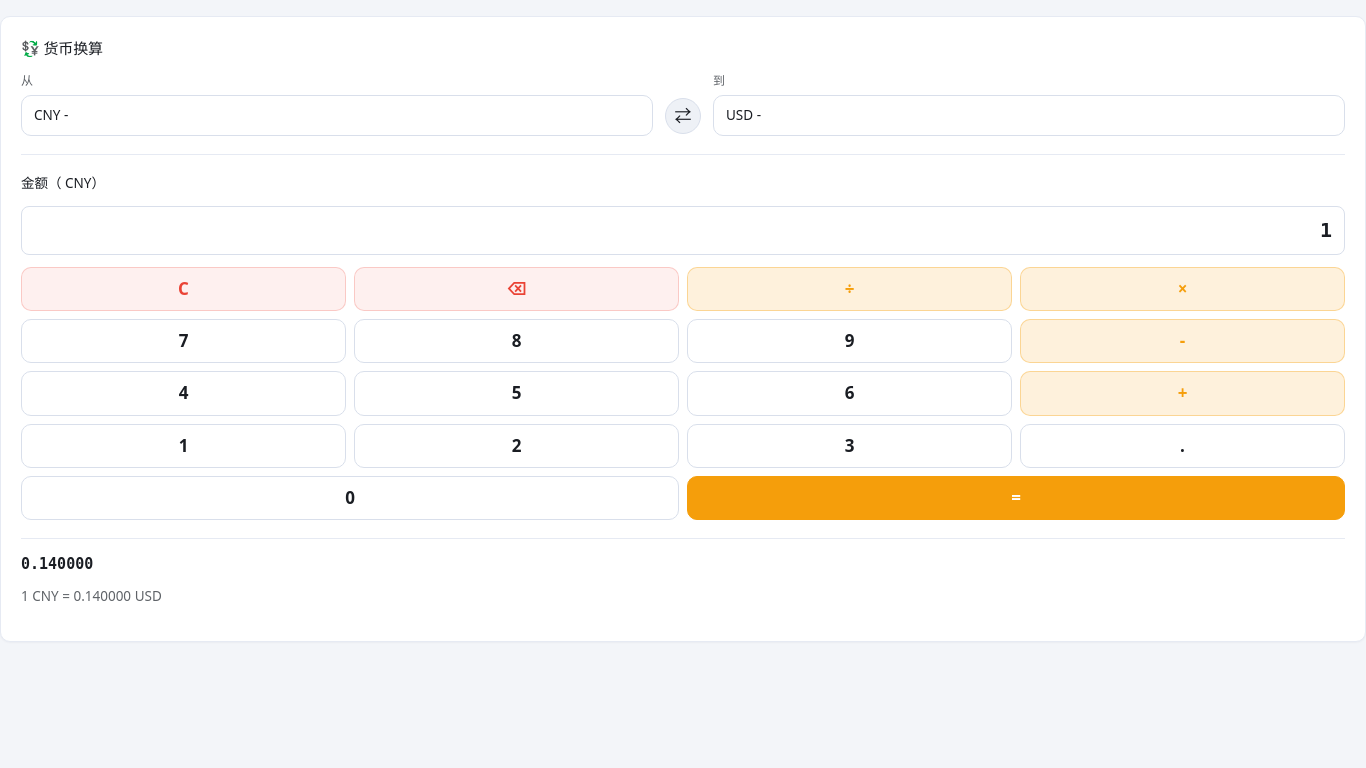
ExchangeConverter › 应保持简单键盘，仅支持加减乘除
Click the button "C": [184, 289] box x1=21 y1=267 x2=346 y2=311
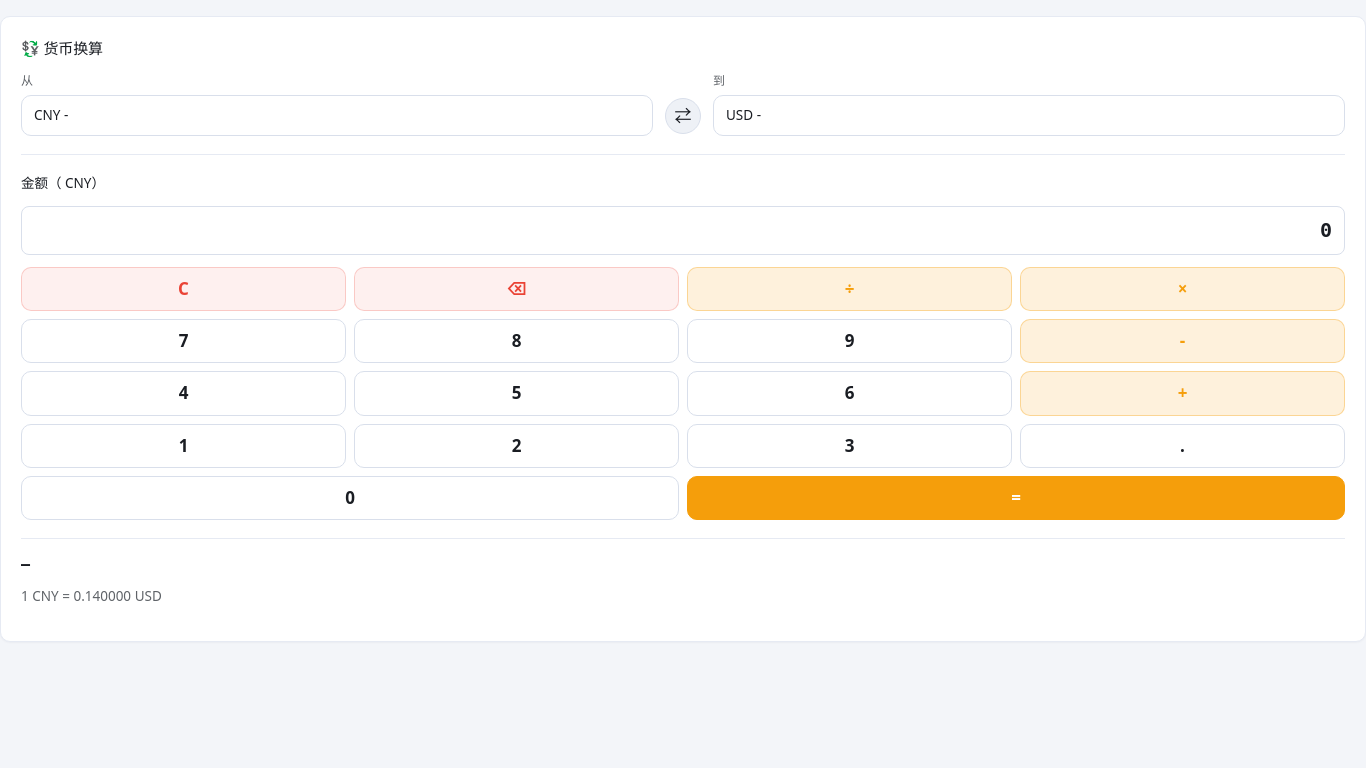
Click the button "8": [516, 341] box x1=354 y1=319 x2=679 y2=363
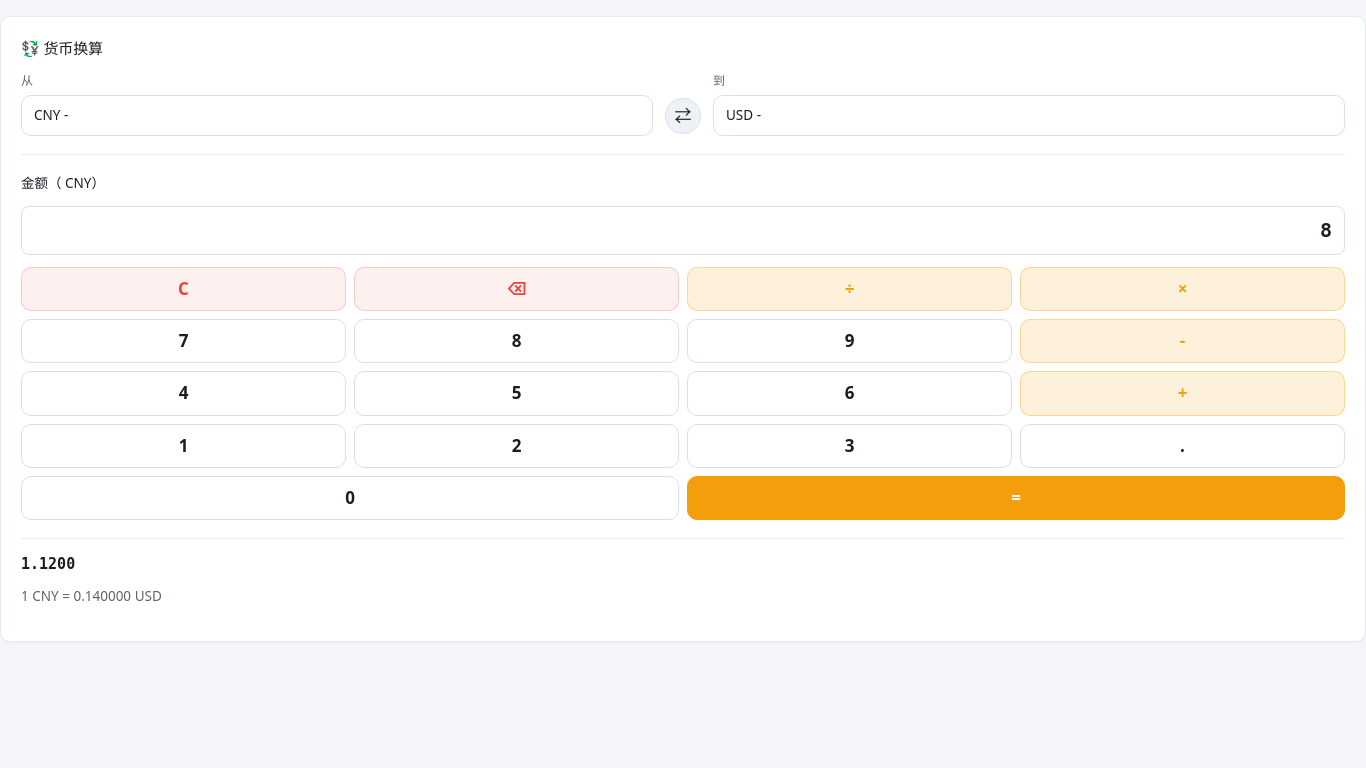
Click the button "÷": [850, 289] box x1=687 y1=267 x2=1012 y2=311
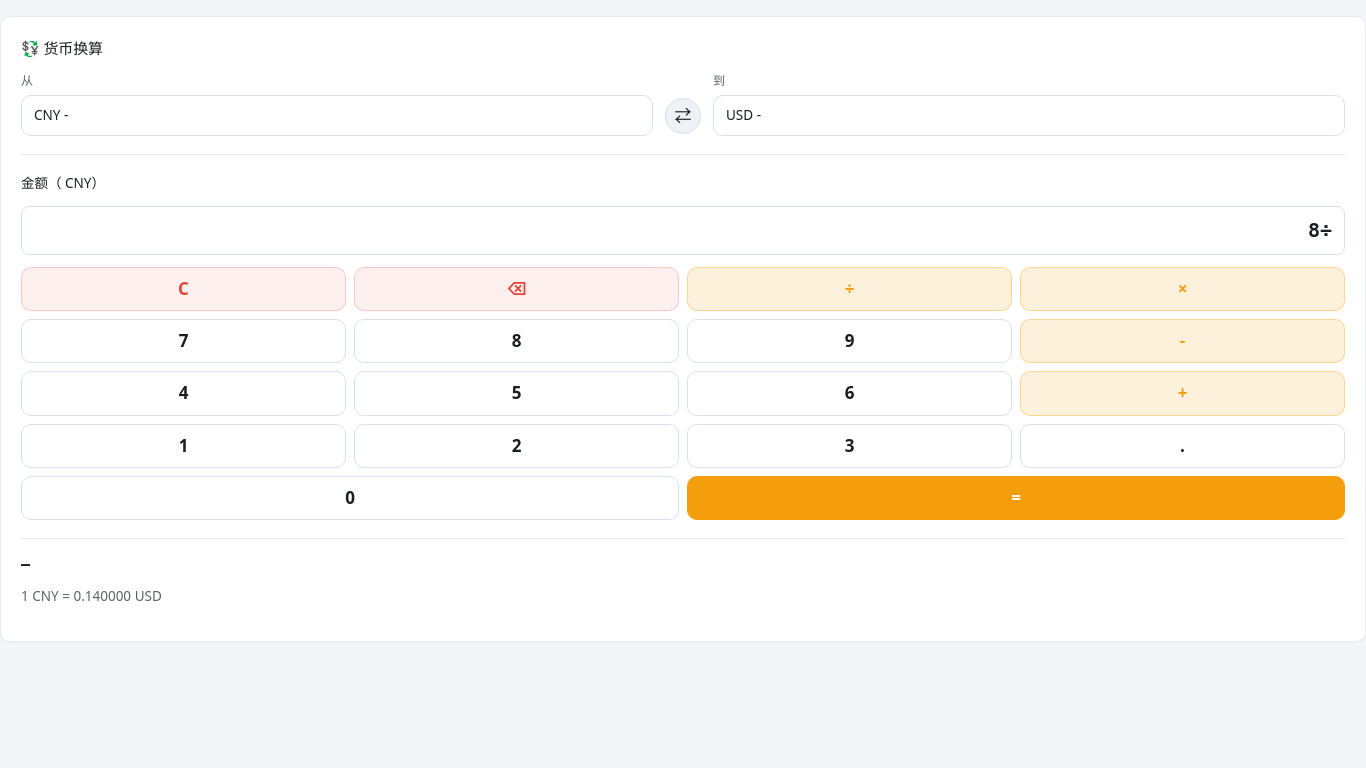
Click the button "4": [184, 394] box x1=21 y1=371 x2=346 y2=416
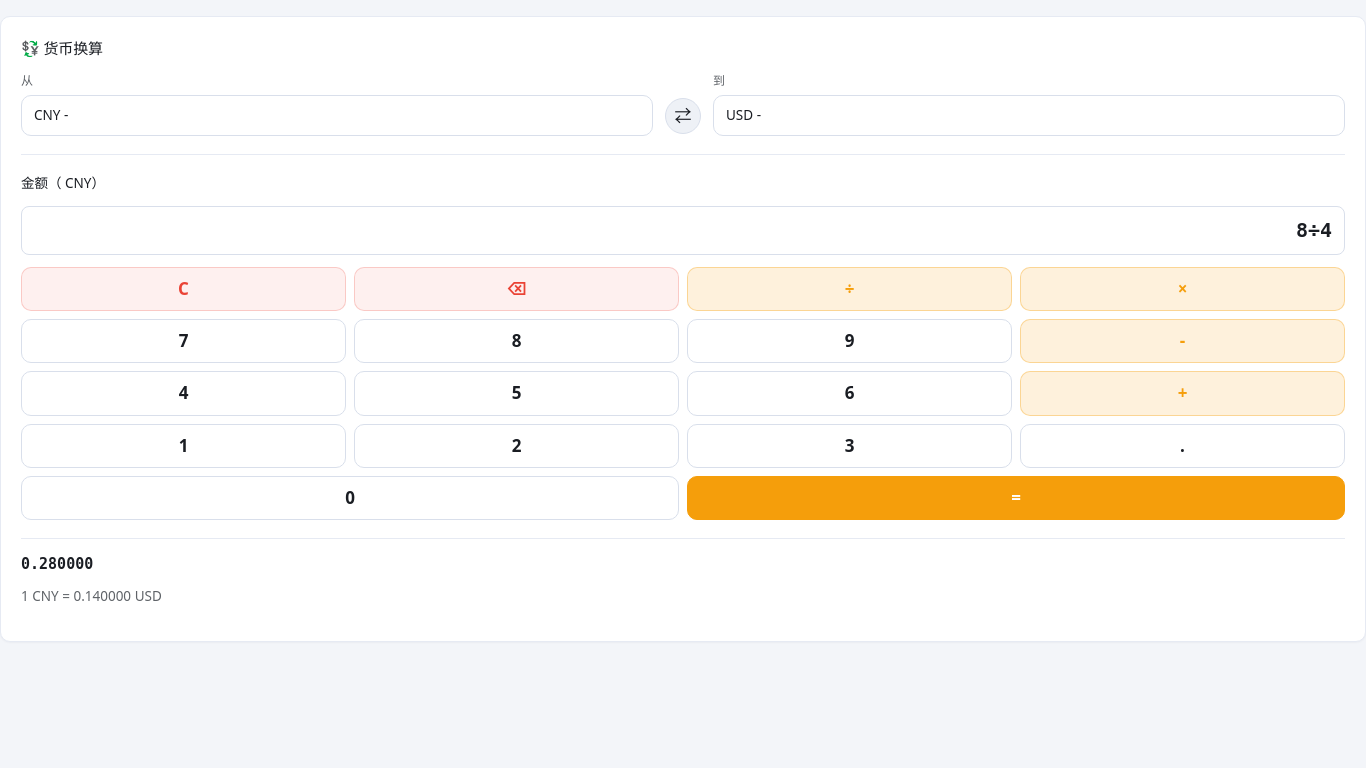
Click the button "=": [1016, 498] box x1=687 y1=476 x2=1345 y2=520
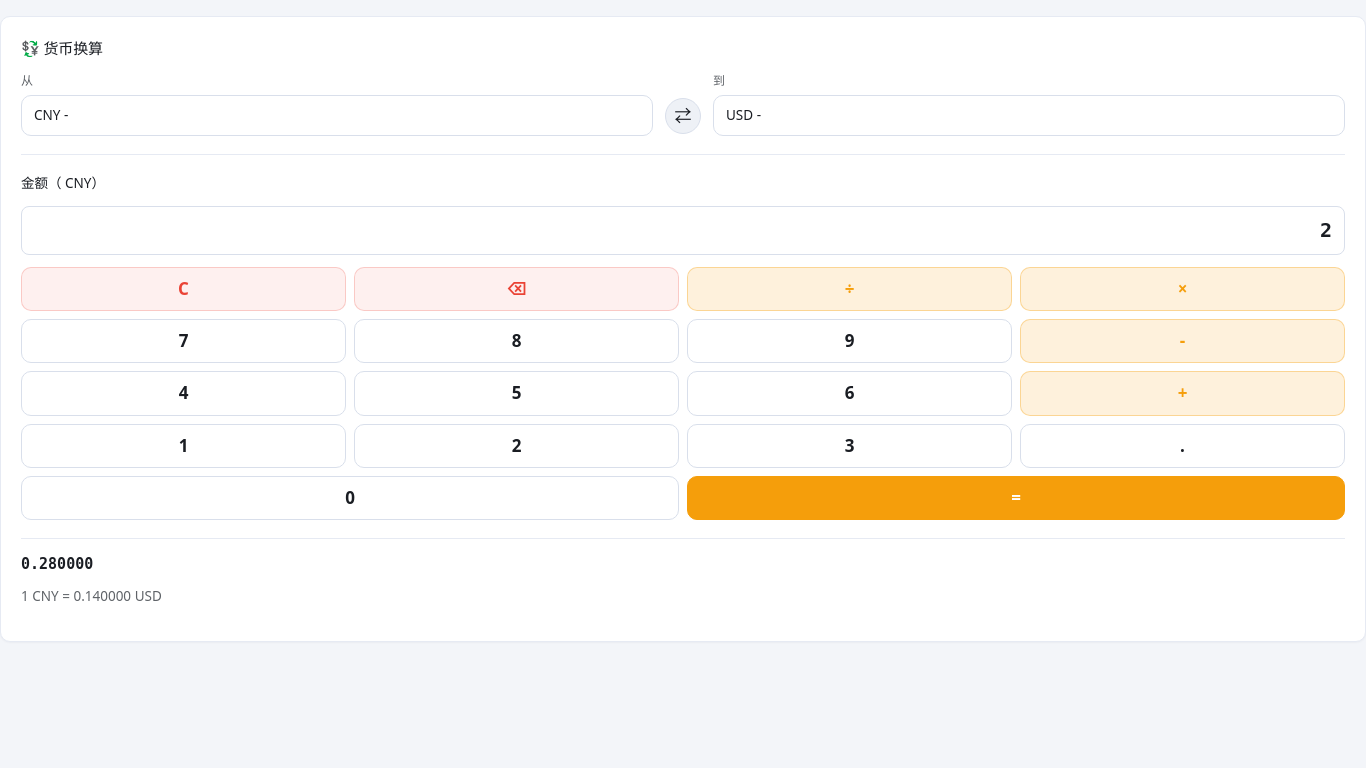
Now the text "2" is shown, box x1=21 y1=206 x2=1345 y2=255
